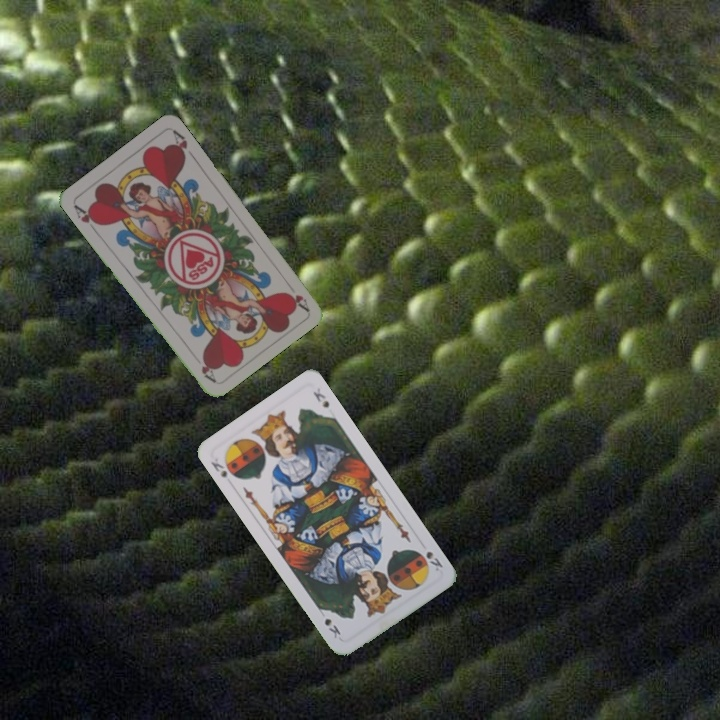HA: (281, 278, 311, 313), (70, 201, 104, 229)
SK: (206, 454, 230, 482), (422, 547, 445, 574)
